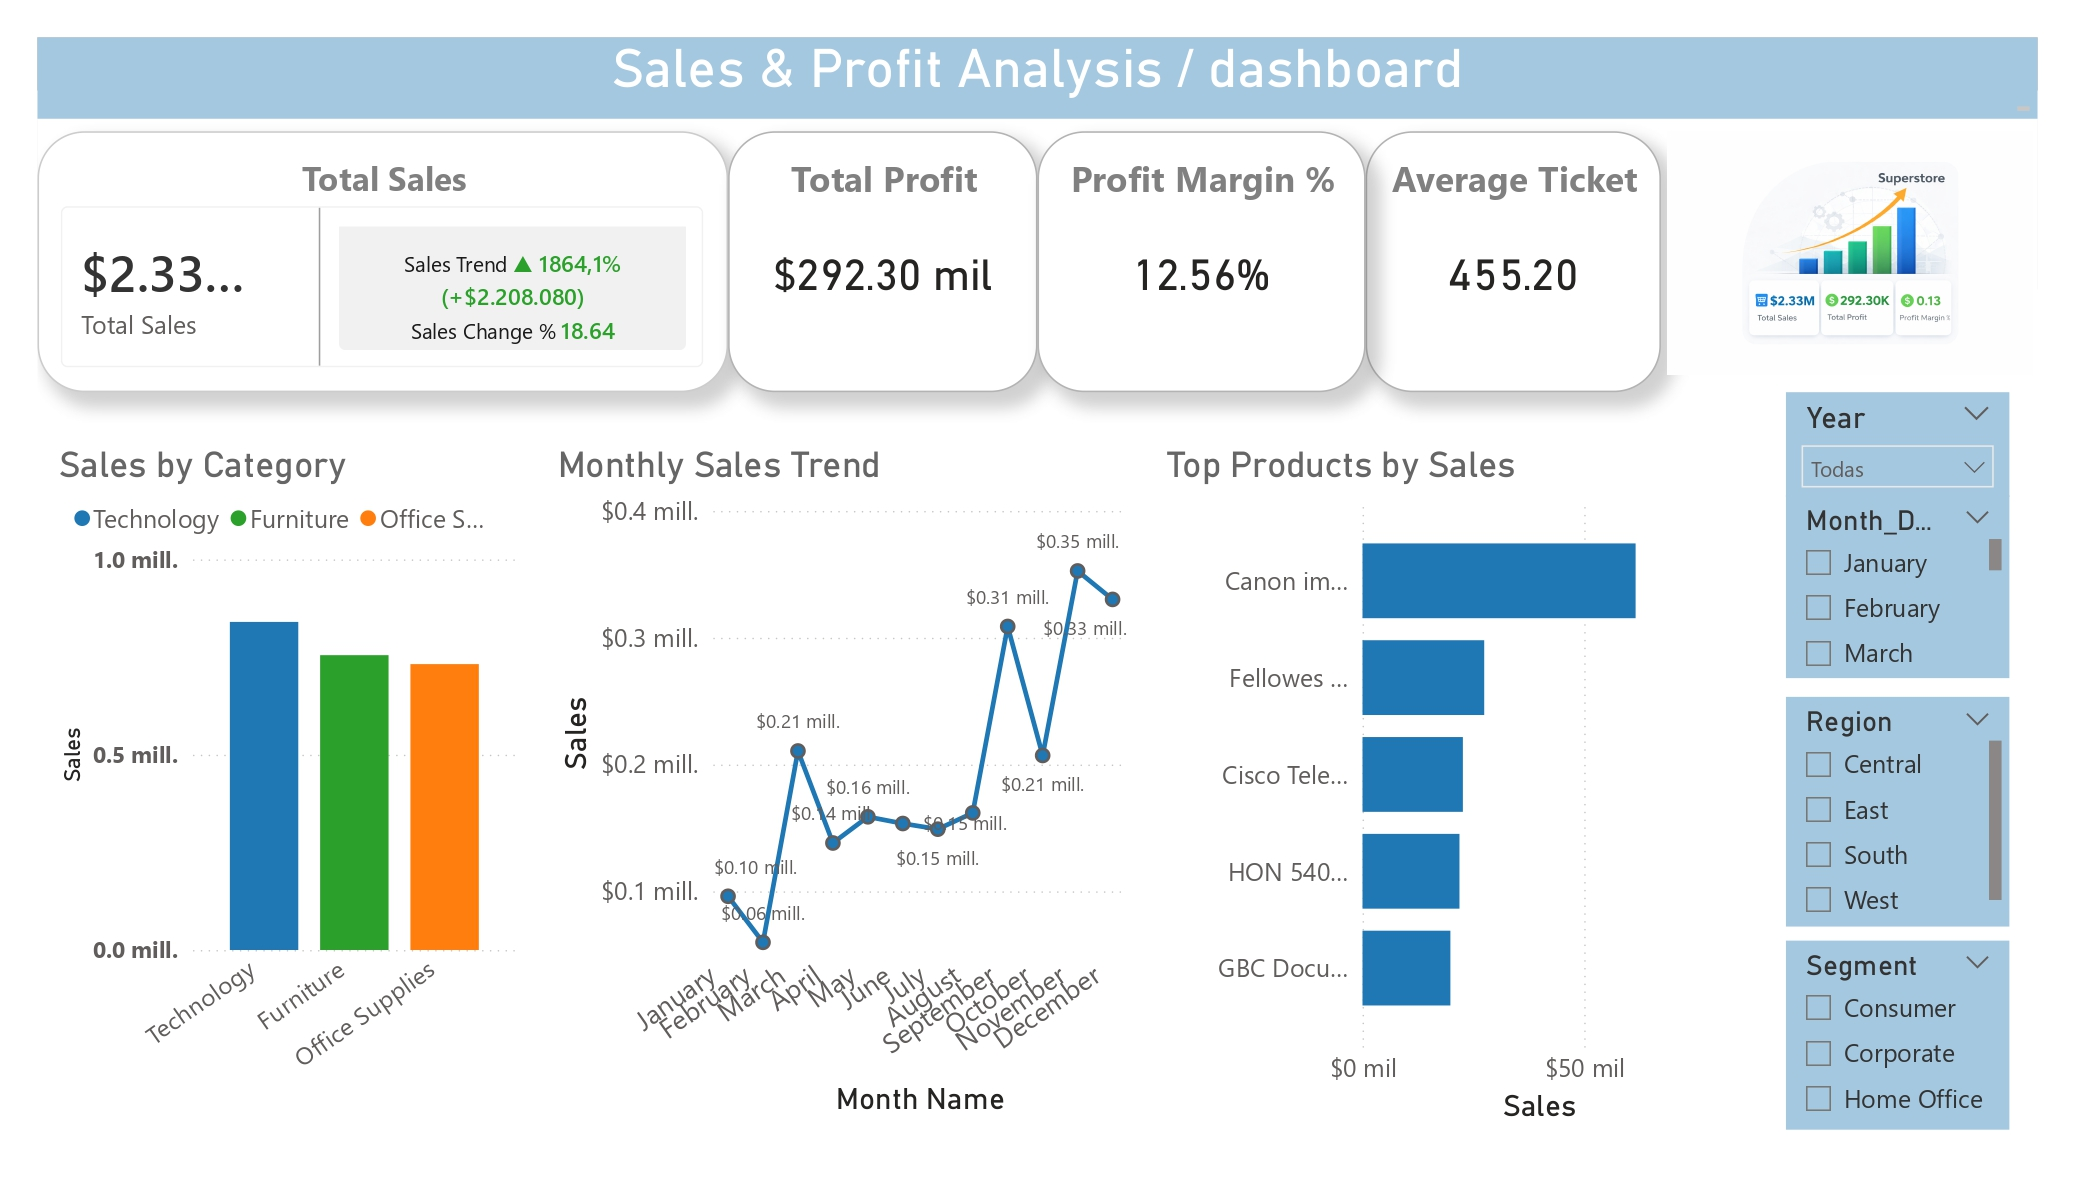

Layout of this report page (visuals, bound fields, positions):
{"tool":"powerbi","page":{"name":"EXECUTIVE DASHBOARD","canvas":[1280,720],"ordinal":0},"visuals":[{"type":"cardVisual","fields":{"Data":["samplesuperstore.Total Sales"]},"box":[0,60,442,166.8],"z":0},{"type":"card","fields":{"Values":["samplesuperstore.Total Profit"]},"box":[442,60,197.6,166.8],"z":1000},{"type":"card","fields":{"Values":["samplesuperstore.Average Ticket"]},"box":[850.2,60,188.8,166.8],"z":2000},{"type":"card","fields":{"Values":["samplesuperstore.Profit Margin %"]},"box":[639.5,60,210.7,166.8],"z":3000},{"type":"lineChart","title":"Monthly Sales Trend","fields":{"Category":["samplesuperstore.Month Name"],"Y":["Sum(samplesuperstore.Sales)"]},"box":[328.3,260,373.3,435],"z":4000},{"type":"columnChart","title":"Sales by Category","fields":{"Category":["samplesuperstore.Category"],"Series":["samplesuperstore.Category"],"Y":["Sum(samplesuperstore.Sales)"]},"box":[8.6,260,304.3,438.6],"z":5000},{"type":"barChart","title":"Top Products by Sales","fields":{"Category":["samplesuperstore.Product Name"],"Y":["samplesuperstore.Total Sales"]},"box":[717.1,260,388.6,438.6],"z":6000},{"type":"slicer","fields":{"Values":["samplesuperstore.Month Name"]},"box":[1118.9,292.7,142.8,117.6],"z":7000},{"type":"actionButton","box":[0,0,100,40],"z":8000},{"type":"slicer","fields":{"Values":["samplesuperstore.Region"]},"box":[1118.9,421.5,142.8,147],"z":9000},{"type":"slicer","fields":{"Values":["samplesuperstore.Segment"]},"box":[1118.9,578.4,142.8,120.4],"z":10000},{"type":"slicer","fields":{"Values":["samplesuperstore.Order Date.Variación.Jerarquía de fechas.Año"]},"box":[1118.9,226.9,142.8,67.2],"z":11000},{"type":"image","box":[1038.6,60,241.4,155.7],"z":12000},{"type":"textbox","title":"Sales & Profit Analysis / dashboard","box":[0,0,1280,51.8],"z":13000}]}

Visuals, with their boxes on the page's 1280x720 design canvas (x1, y1, x2, y2). These are canvas units, not pixel positions in the 2075x1200 screenshot, which may show the page scaled, cropped or inside an application window:
cardVisual - samplesuperstore.Total Sales: <region>0, 60, 442, 227</region>
card - samplesuperstore.Total Profit: <region>442, 60, 640, 227</region>
card - samplesuperstore.Average Ticket: <region>850, 60, 1039, 227</region>
card - samplesuperstore.Profit Margin %: <region>640, 60, 850, 227</region>
"Monthly Sales Trend" lineChart: <region>328, 260, 702, 695</region>
"Sales by Category" columnChart: <region>9, 260, 313, 699</region>
"Top Products by Sales" barChart: <region>717, 260, 1106, 699</region>
slicer - samplesuperstore.Month Name: <region>1119, 293, 1262, 410</region>
actionButton: <region>0, 0, 100, 40</region>
slicer - samplesuperstore.Region: <region>1119, 422, 1262, 568</region>
slicer - samplesuperstore.Segment: <region>1119, 578, 1262, 699</region>
slicer - samplesuperstore.Order Date.Variación.Jerarquía de fechas.Año: <region>1119, 227, 1262, 294</region>
image: <region>1039, 60, 1280, 216</region>
"Sales & Profit Analysis / dashboard" textbox: <region>0, 0, 1280, 52</region>
